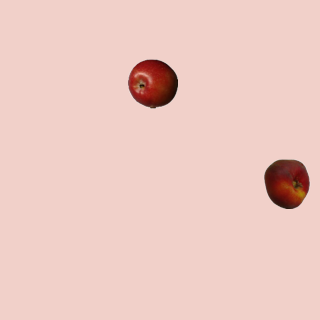Apple Braeburn: (127, 58, 177, 108)
Nectarine Flat: (261, 158, 311, 208)
